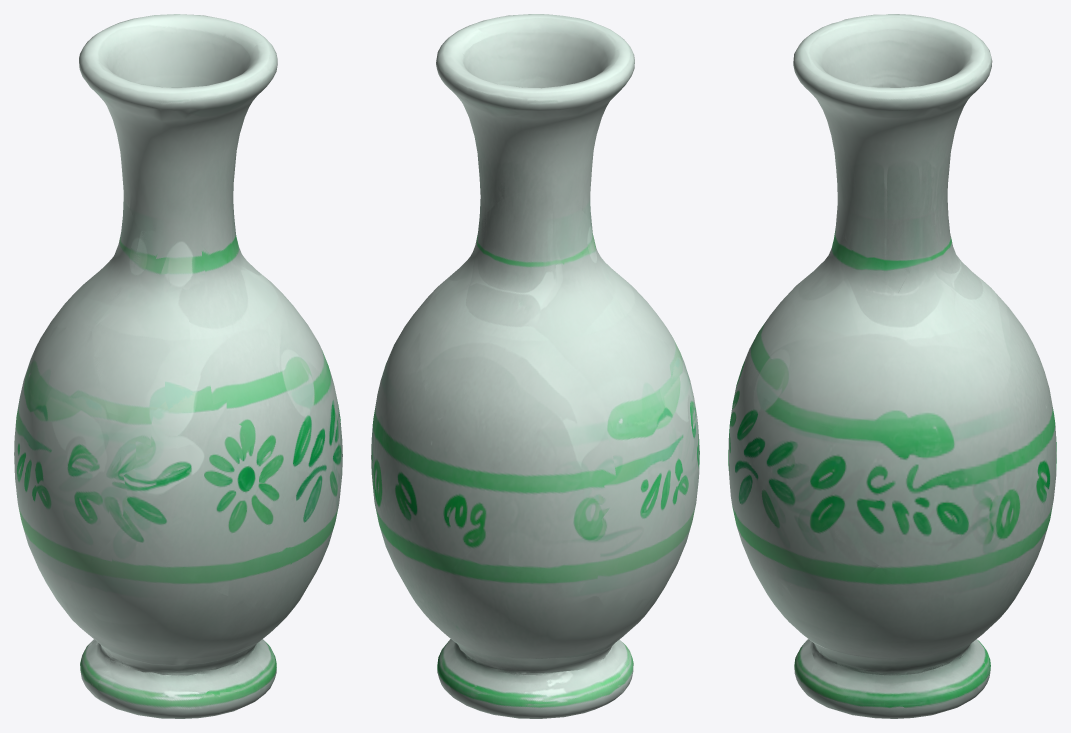
Rendered from Vase_Tall_Set.fbx.
3 renders of one model, left to right at view 1: azimuth 30°, elevation 25°; view 2: azimuth 150°, elevation 25°; view 3: azimuth 270°, elevation 25°, orthographic.
Parts seen in each view (by area): view 1: Vase_Tall_Intact, Vase_Tall_Shard_07, Vase_Tall_Shard_04, Vase_Tall_Shard_09, Vase_Tall_Shard_01, Vase_Tall_Shard_06, Vase_Tall_Shard_08, Vase_Tall_Shard_03, Vase_Tall_Shard_02; view 2: Vase_Tall_Intact, Vase_Tall_Shard_06, Vase_Tall_Shard_08, Vase_Tall_Shard_09, Vase_Tall_Shard_03, Vase_Tall_Shard_05, Vase_Tall_Shard_07, Vase_Tall_Shard_01, Vase_Tall_Shard_02; view 3: Vase_Tall_Intact, Vase_Tall_Shard_05, Vase_Tall_Shard_09, Vase_Tall_Shard_02, Vase_Tall_Shard_07, Vase_Tall_Shard_04, Vase_Tall_Shard_08, Vase_Tall_Shard_03, Vase_Tall_Shard_01.
Boxes of the visible parts, x1,y1,x2,y2 form: Vase_Tall_Intact: [14, 14, 341, 718]; Vase_Tall_Shard_07: [92, 229, 324, 455]; Vase_Tall_Shard_04: [118, 367, 342, 609]; Vase_Tall_Shard_09: [79, 14, 277, 241]; Vase_Tall_Shard_01: [63, 533, 288, 718]; Vase_Tall_Shard_06: [14, 327, 124, 599]; Vase_Tall_Shard_08: [46, 180, 139, 331]; Vase_Tall_Shard_03: [46, 582, 113, 701]; Vase_Tall_Shard_02: [243, 541, 329, 699]; Vase_Tall_Intact: [371, 14, 698, 717]; Vase_Tall_Shard_06: [475, 324, 699, 600]; Vase_Tall_Shard_08: [419, 191, 630, 475]; Vase_Tall_Shard_09: [436, 14, 634, 233]; Vase_Tall_Shard_03: [423, 546, 651, 718]; Vase_Tall_Shard_05: [371, 284, 476, 604]; Vase_Tall_Shard_07: [453, 215, 684, 363]; Vase_Tall_Shard_01: [605, 537, 687, 692]; Vase_Tall_Shard_02: [404, 584, 467, 695]; Vase_Tall_Intact: [729, 14, 1056, 718]; Vase_Tall_Shard_05: [832, 341, 1056, 607]; Vase_Tall_Shard_09: [793, 14, 992, 294]; Vase_Tall_Shard_02: [779, 537, 1004, 718]; Vase_Tall_Shard_07: [742, 214, 904, 428]; Vase_Tall_Shard_04: [728, 366, 835, 605]; Vase_Tall_Shard_08: [897, 185, 1050, 394]; Vase_Tall_Shard_03: [959, 559, 1036, 697]; Vase_Tall_Shard_01: [763, 587, 822, 694].
Size of the model in its own units: 0.1727 by 0.366 by 0.1728.
